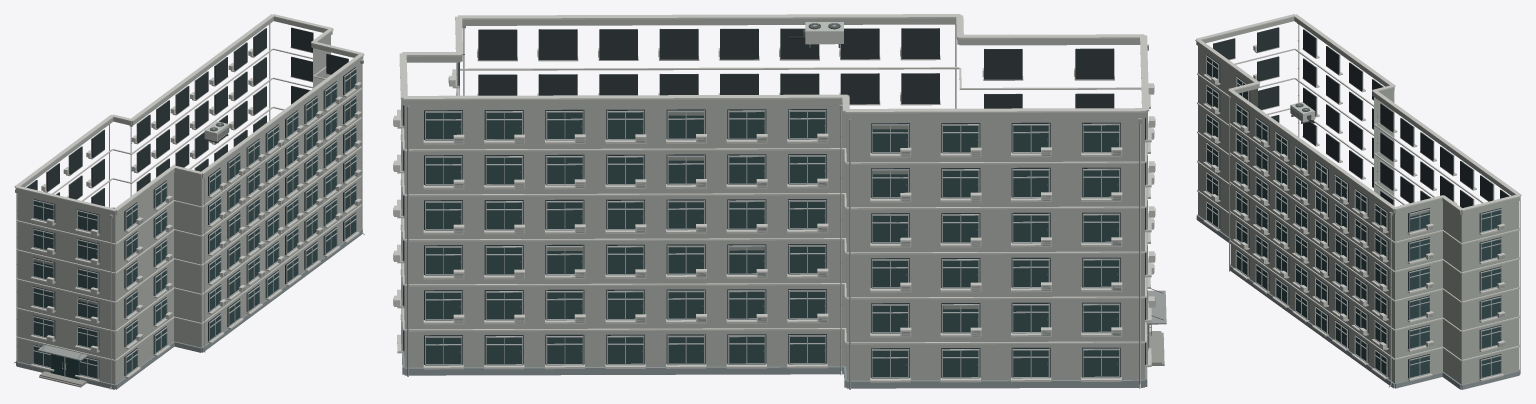
Rendered from osm_way_225242513.glb.
The picture shows the model from 3 angles, left to right: view 1: azimuth 30°, elevation 25°; view 2: azimuth 150°, elevation 25°; view 3: azimuth 270°, elevation 25°; orthographic projection. The views are drawn at different scales.
Visible parts, largest first — view 1: Windows and facade details | 31, Architecture | 31, Roof services | 31, EXTERIOR::osm_way_225242513::rainwater and roof service deta, EXTERIOR::osm_way_225242513::inferred entry doors canopy and; view 2: Architecture | 31, Windows and facade details | 31, Roof services | 31, EXTERIOR::osm_way_225242513::rainwater and roof service deta, EXTERIOR::osm_way_225242513::inferred entry doors canopy and, EXTERIOR::osm_way_225242513::native pane seals and hardware; view 3: Architecture | 31, Windows and facade details | 31, Roof services | 31, EXTERIOR::osm_way_225242513::rainwater and roof service deta.
Part boxes in pixels (<box>): Windows and facade details | 31: <box>26,24,361,381</box>; Architecture | 31: <box>15,17,363,389</box>; Roof services | 31: <box>14,14,364,211</box>; EXTERIOR::osm_way_225242513::rainwater and roof service deta: <box>14,60,364,389</box>; EXTERIOR::osm_way_225242513::inferred entry doors canopy and: <box>37,341,87,387</box>; Architecture | 31: <box>402,18,1147,388</box>; Windows and facade details | 31: <box>393,24,1155,389</box>; Roof services | 31: <box>399,14,1149,113</box>; EXTERIOR::osm_way_225242513::rainwater and roof service deta: <box>462,22,1148,388</box>; EXTERIOR::osm_way_225242513::inferred entry doors canopy and: <box>1146,288,1166,365</box>; EXTERIOR::osm_way_225242513::native pane seals and hardware: <box>460,112,1117,365</box>; Architecture | 31: <box>1196,17,1520,389</box>; Windows and facade details | 31: <box>1203,27,1520,381</box>; Roof services | 31: <box>1195,14,1521,211</box>; EXTERIOR::osm_way_225242513::rainwater and roof service deta: <box>1290,23,1392,387</box>.
Bounding box in the file's own units: 46.17 × 20.58 × 32.42.
